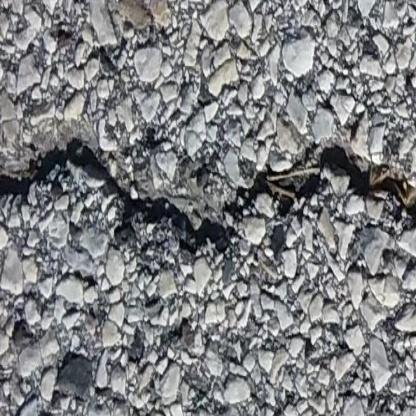Cracks: (0, 123, 416, 252)
